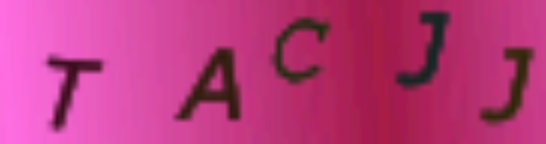A: (172, 42, 247, 122)
C: (269, 14, 331, 84)
J: (382, 9, 454, 95), (478, 43, 539, 129)
T: (35, 55, 104, 134)
